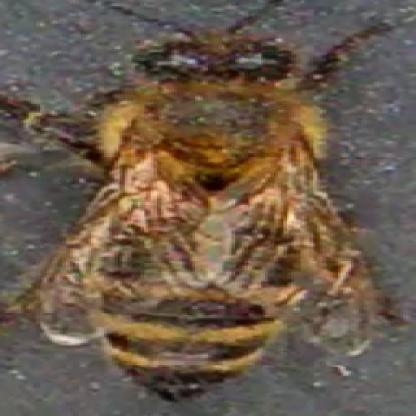bee: (62, 29, 318, 398)
